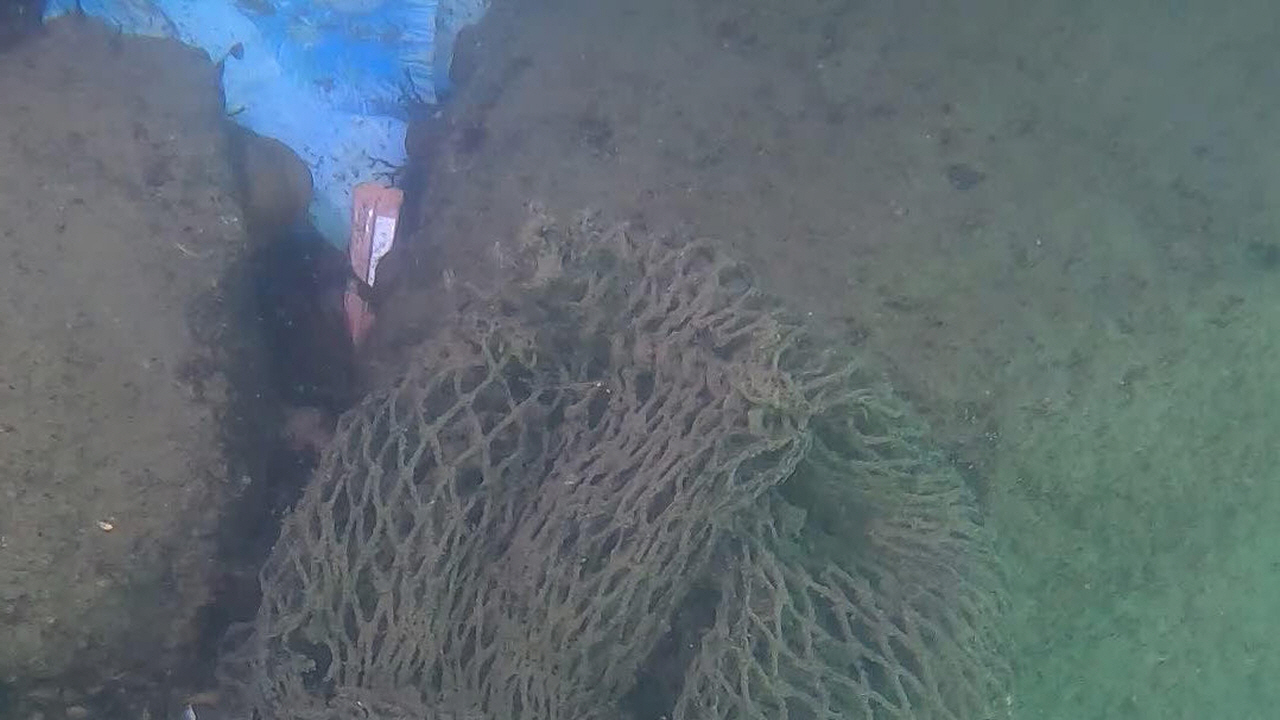fish net: (220, 217, 1019, 720)
